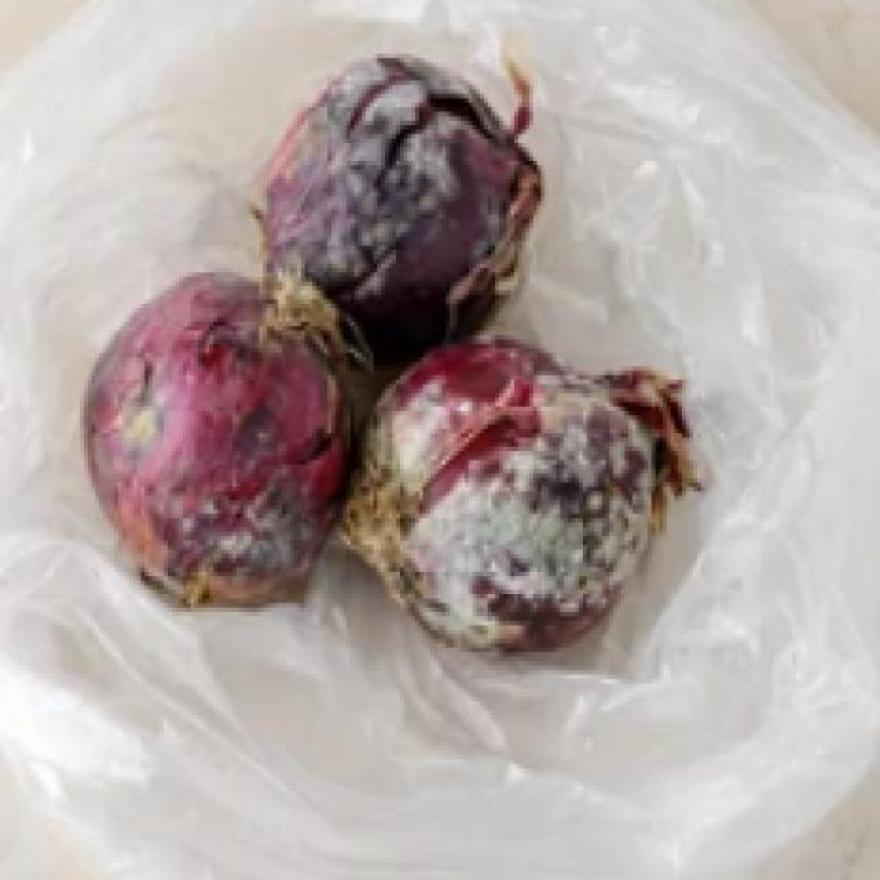Rotten: (312, 58, 465, 232), (488, 424, 616, 613)
